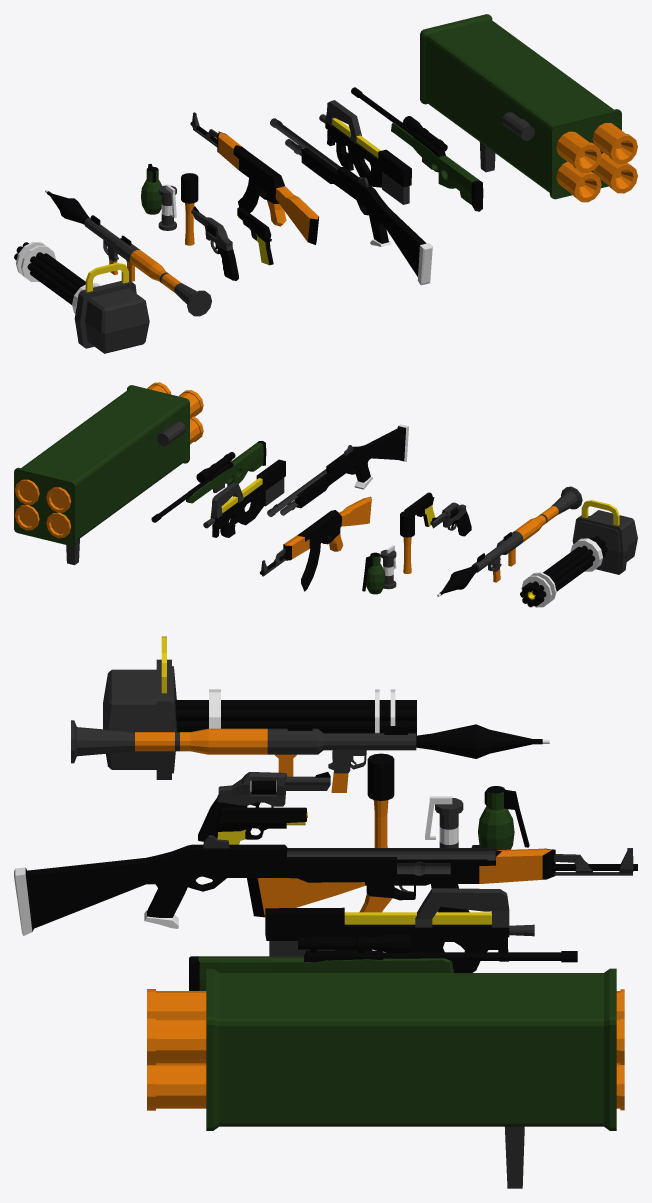
The model's file is low_poly_weapons.glb.
3 views of the same model, one above another, from view 1: azimuth 30°, elevation 25°; view 2: azimuth 150°, elevation 25°; view 3: azimuth 270°, elevation 25° (orthographic). The views are drawn at different scales.
Visible parts, largest first — view 1: Weapon_01, Weapon_09, Weapon_07, Weapon_03, Weapon_02, Weapon_08, Weapon_06, Weapon_05, g_03, Weapon_04, g_01, g_02; view 2: Weapon_01, Weapon_09, Weapon_07, Weapon_02, Weapon_03, Weapon_08, Weapon_06, Weapon_05, g_01, g_03, Weapon_04, g_02; view 3: Weapon_01, Weapon_07, Weapon_09, Weapon_08, Weapon_02, Weapon_03, Weapon_06, Weapon_05, Weapon_04, g_01, g_03, g_02.
Part boxes in pixels (x1,y1,x2,y2): Weapon_01: (420, 14, 637, 202); Weapon_09: (14, 242, 149, 353); Weapon_07: (270, 118, 432, 285); Weapon_03: (190, 112, 318, 244); Weapon_02: (319, 100, 411, 204); Weapon_08: (45, 190, 211, 316); Weapon_06: (351, 87, 483, 211); Weapon_05: (191, 206, 238, 280); g_03: (181, 173, 198, 245); Weapon_04: (237, 207, 273, 265); g_01: (141, 164, 161, 214); g_02: (158, 184, 176, 230); Weapon_01: (14, 382, 203, 565); Weapon_09: (520, 500, 637, 607); Weapon_07: (267, 424, 408, 516); Weapon_02: (203, 459, 285, 537); Weapon_03: (259, 496, 371, 591); Weapon_08: (437, 486, 582, 596); Weapon_06: (151, 441, 266, 522); Weapon_05: (430, 502, 471, 536); g_01: (362, 552, 385, 594); g_03: (400, 511, 414, 573); Weapon_04: (404, 492, 435, 526); g_02: (380, 545, 396, 589); Weapon_01: (147, 968, 624, 1188); Weapon_07: (14, 835, 495, 935); Weapon_09: (103, 636, 416, 779); Weapon_08: (71, 720, 549, 792); Weapon_02: (265, 888, 534, 972); Weapon_03: (247, 848, 637, 952); Weapon_06: (189, 934, 577, 990); Weapon_05: (198, 772, 330, 841); Weapon_04: (206, 807, 307, 844); g_01: (478, 786, 529, 849); g_03: (367, 753, 394, 847); g_02: (425, 796, 463, 847).
Bounding box in the file's own units: 197 × 41.83 × 123.
